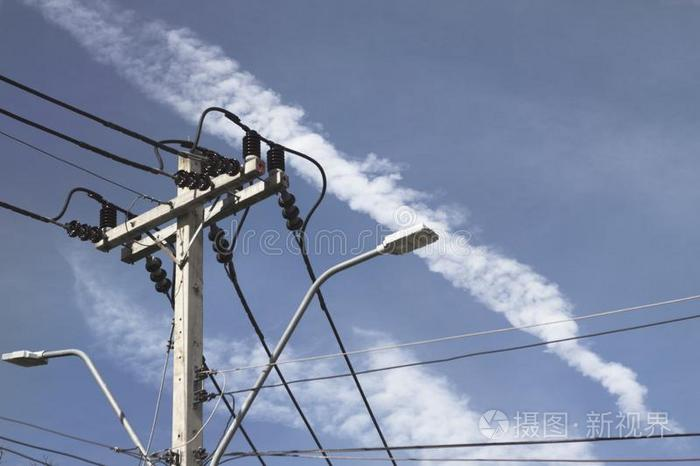insulator: (206, 226, 233, 265), (278, 192, 303, 233), (144, 257, 172, 293), (67, 219, 103, 243), (206, 150, 240, 173), (174, 169, 211, 190)
